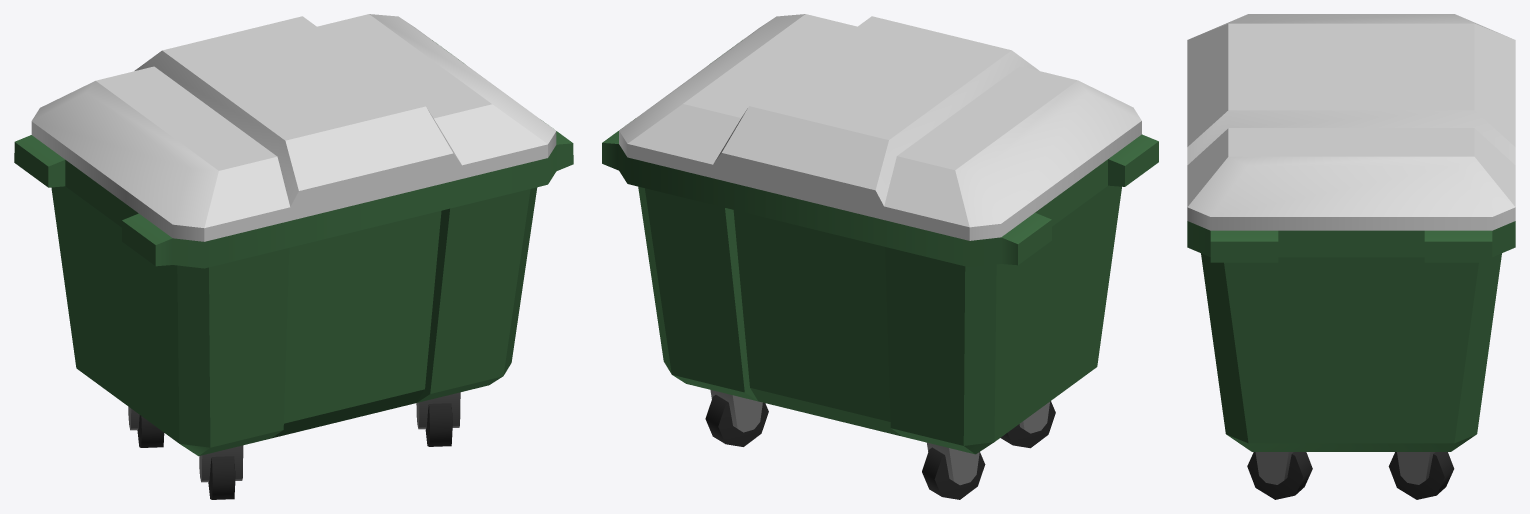
The model's file is trashcontainer_02.fbx.
The picture shows the model from 3 angles, left to right: view 1: azimuth 30°, elevation 25°; view 2: azimuth 150°, elevation 25°; view 3: azimuth 270°, elevation 25°; orthographic projection.
Parts seen in each view (by area): view 1: trashcontainer_02, trashcontainer_02_cap; view 2: trashcontainer_02, trashcontainer_02_cap; view 3: trashcontainer_02_cap, trashcontainer_02.
Part boxes in pixels (bbox=[...]): trashcontainer_02: bbox=[14, 40, 573, 499]; trashcontainer_02_cap: bbox=[31, 14, 556, 241]; trashcontainer_02: bbox=[602, 43, 1158, 499]; trashcontainer_02_cap: bbox=[619, 14, 1141, 240]; trashcontainer_02_cap: bbox=[1187, 14, 1515, 230]; trashcontainer_02: bbox=[1187, 221, 1515, 499].
Bounding box in the file's own units: 161 × 135 × 109.
